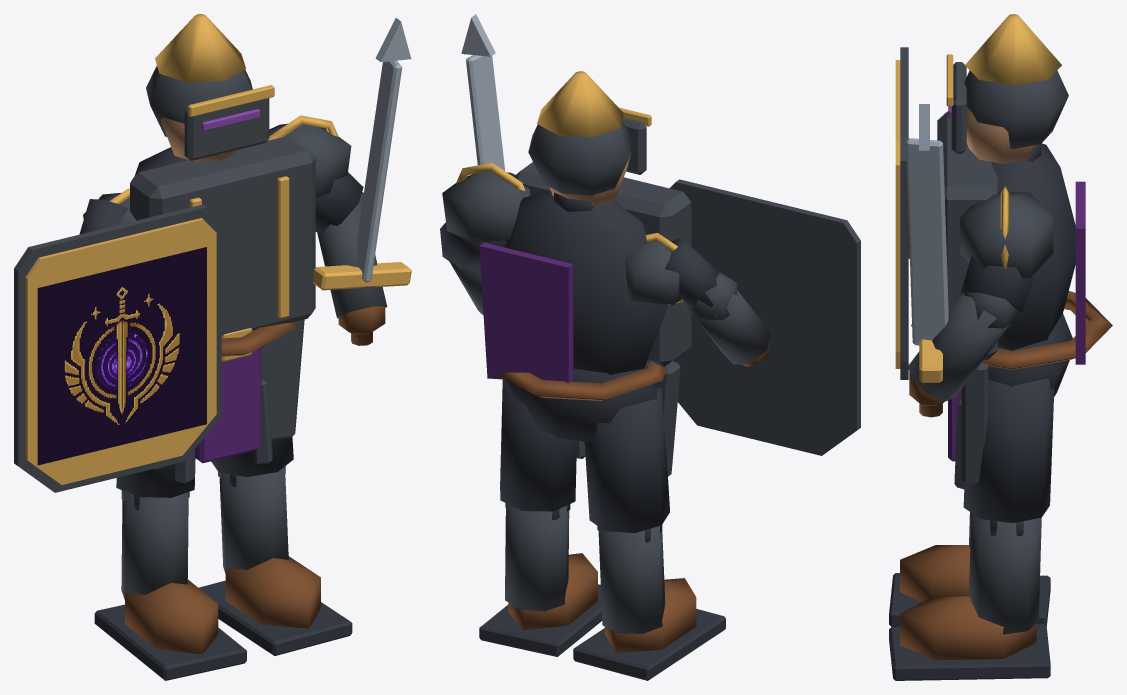
The picture shows the model from 3 angles, left to right: view 1: azimuth 30°, elevation 25°; view 2: azimuth 150°, elevation 25°; view 3: azimuth 270°, elevation 25°; orthographic projection. The views are drawn at different scales.
Visible parts, largest first — view 1: WK_Hegemony_Bulwark_LOD2_Compact_Static; view 2: WK_Hegemony_Bulwark_LOD2_Compact_Static; view 3: WK_Hegemony_Bulwark_LOD2_Compact_Static.
Part boxes in pixels (x1,y1,x2,y2): WK_Hegemony_Bulwark_LOD2_Compact_Static: (14,14,411,680); WK_Hegemony_Bulwark_LOD2_Compact_Static: (440,14,860,680); WK_Hegemony_Bulwark_LOD2_Compact_Static: (889,14,1112,680).
Bounding box in the file's own units: 1.43 × 2.03 × 0.6668.
9 materials, 1 textured.
